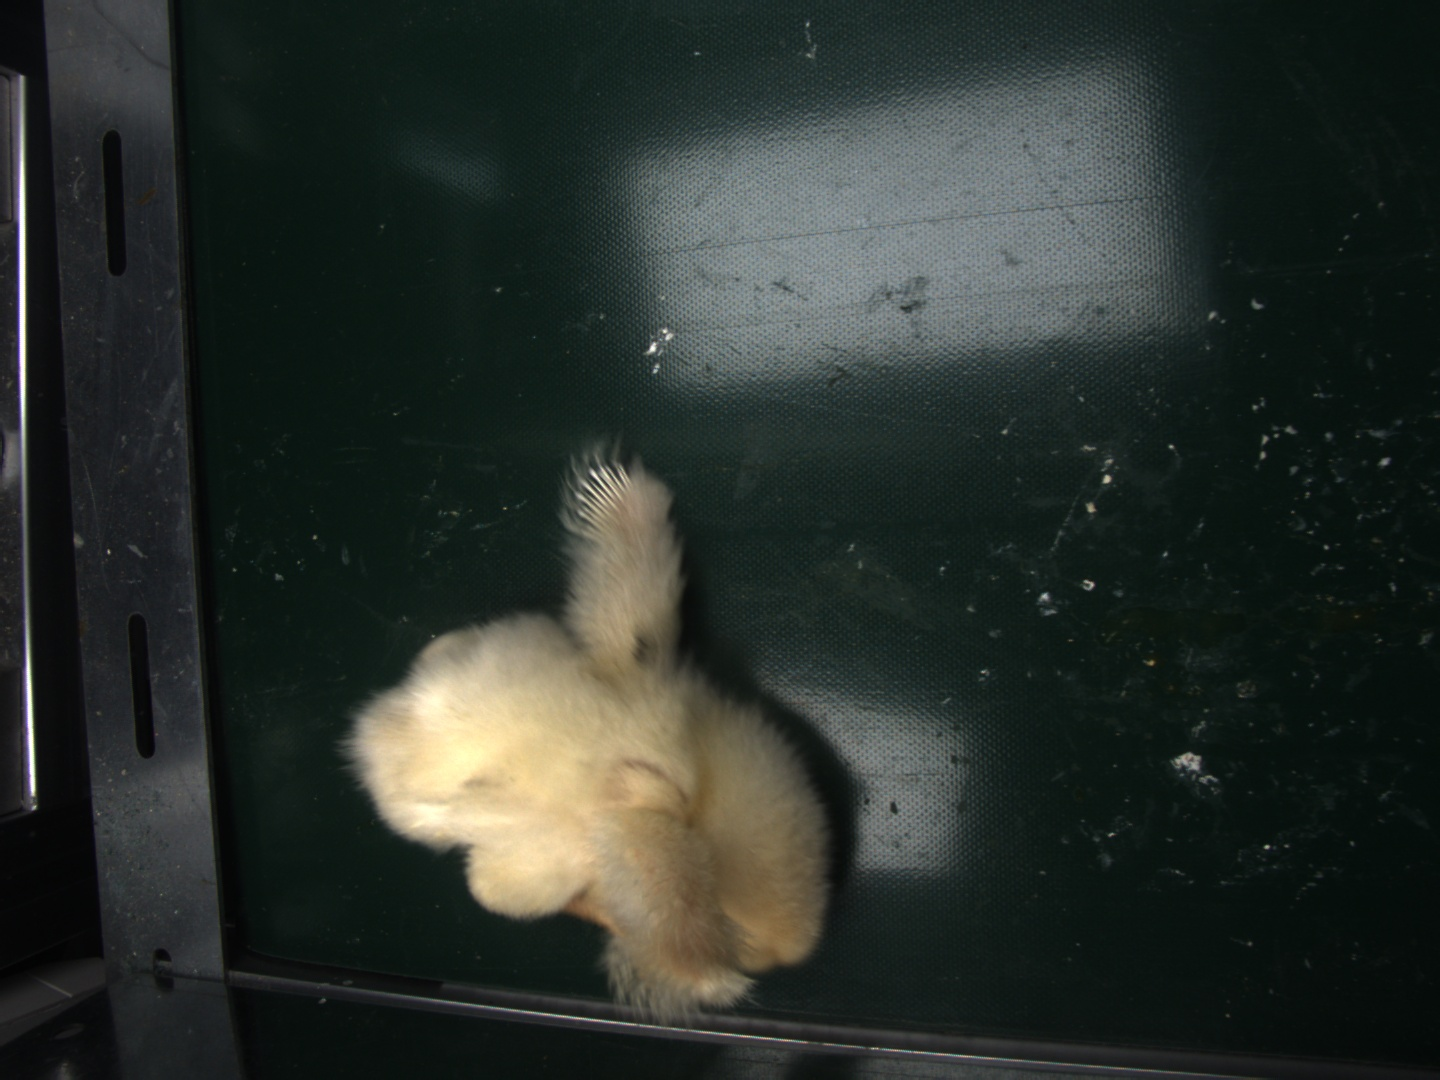male: (571, 459, 629, 537)
